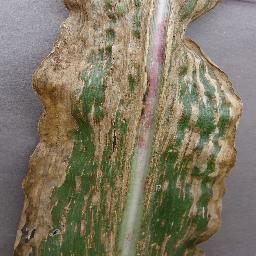Gray_Leaf_Spot: (9, 0, 245, 256)
